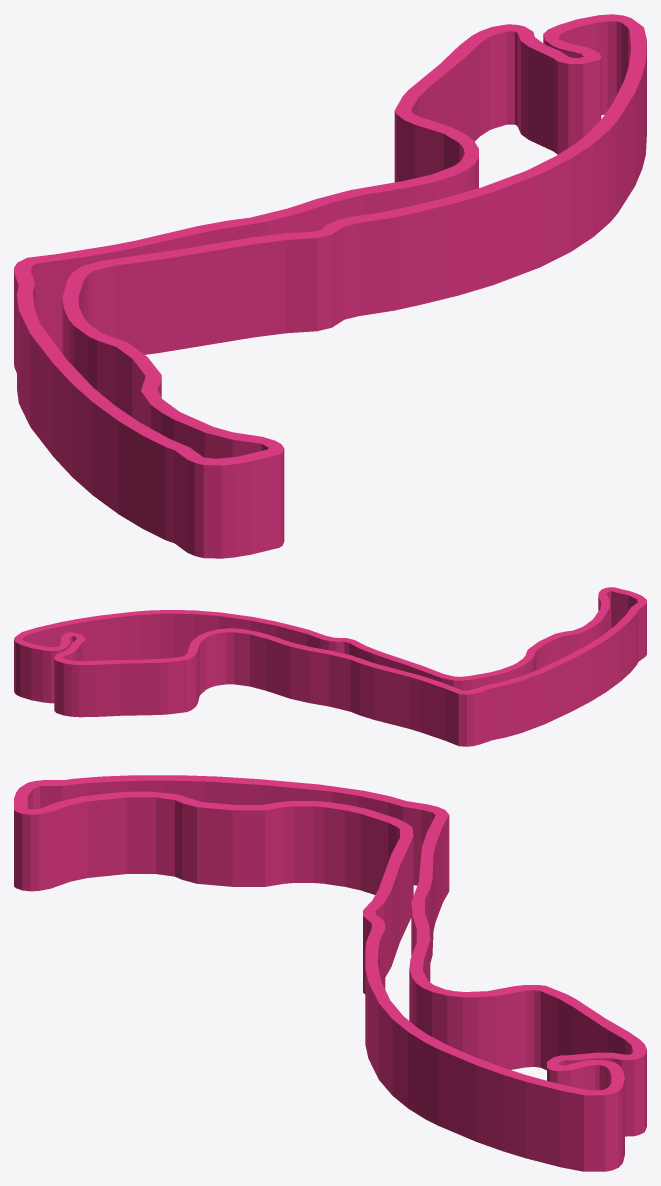
The model's file is monacomap_gltf.gltf.
3 renders of one model, top to bottom at view 1: azimuth 30°, elevation 25°; view 2: azimuth 150°, elevation 25°; view 3: azimuth 270°, elevation 25°, orthographic. The views are drawn at different scales.
Visible parts, largest first — view 1: monacomap; view 2: monacomap; view 3: monacomap.
Boxes of the visible parts, x1,y1,x2,y2 form: monacomap: (14,14,646,558); monacomap: (14,587,646,746); monacomap: (14,775,646,1171).
Bounding box in the file's own units: 36576 × 4084 × 30582.
